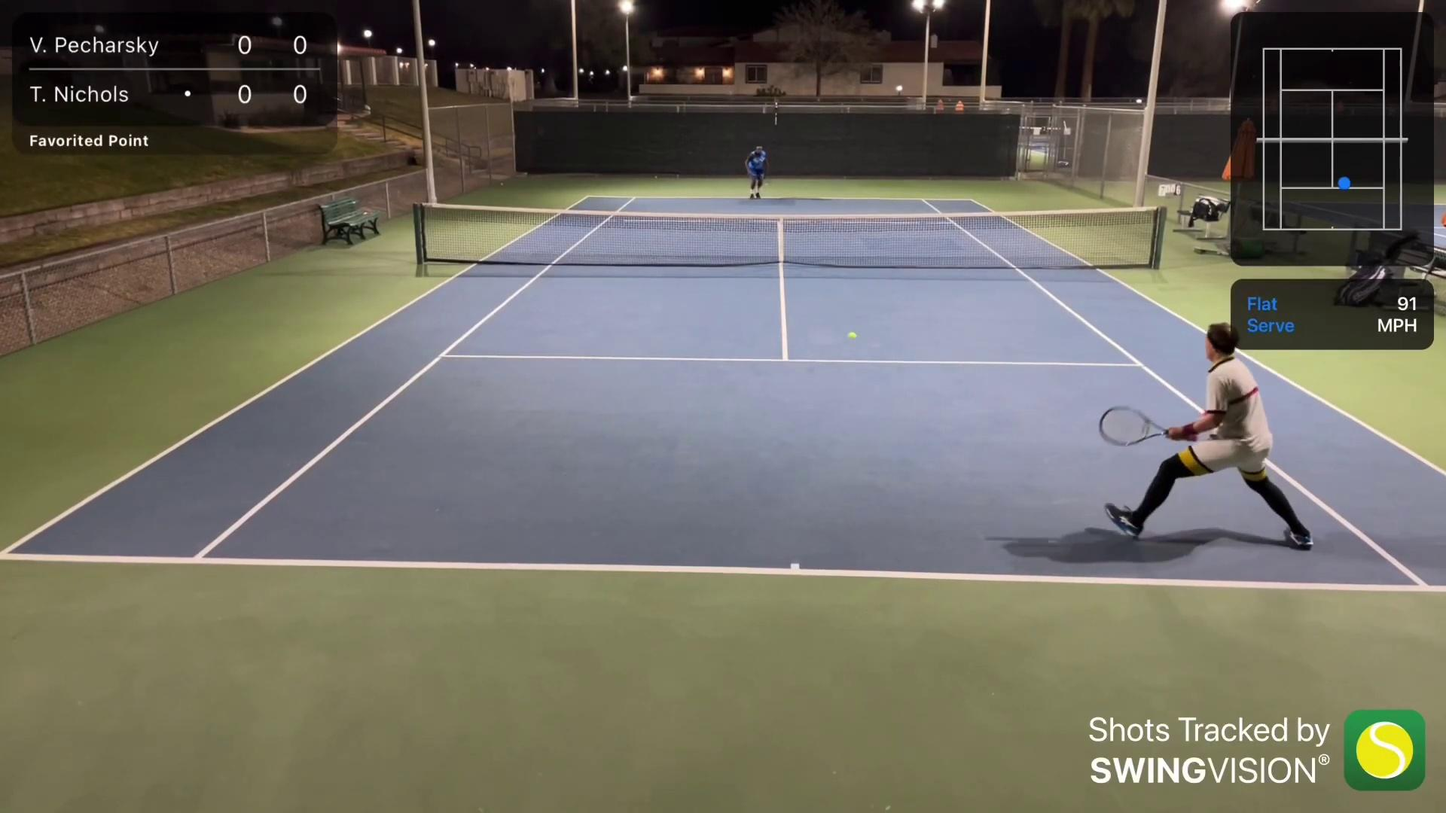ball: (849, 332, 859, 338), (500, 181, 504, 186), (654, 175, 657, 178)
